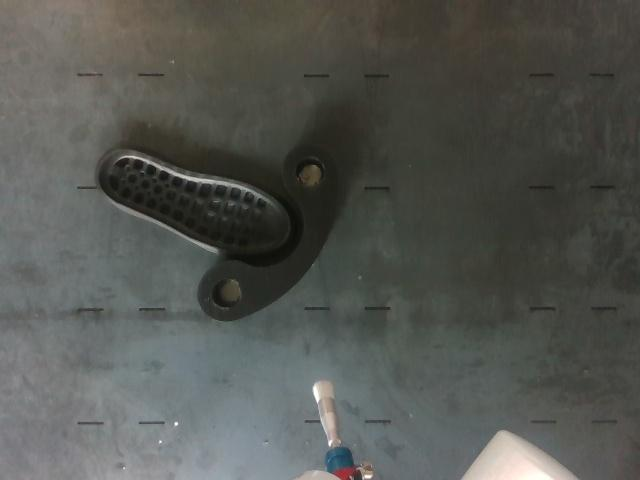shoes: (98, 151, 288, 253)
